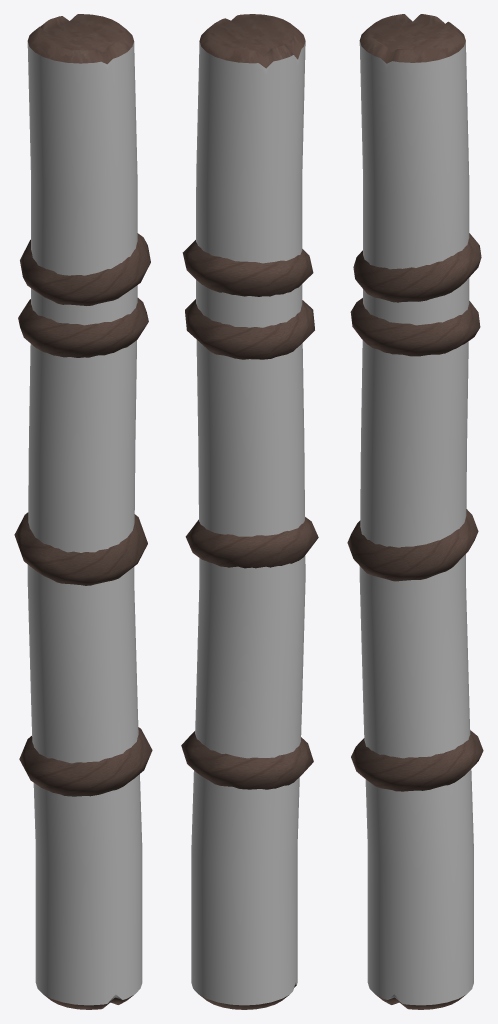
Rendered from Coast Log.fbx.
3 views of the same model, side by side, from view 1: azimuth 30°, elevation 25°; view 2: azimuth 210°, elevation 25°; view 3: azimuth 330°, elevation 25° (orthographic).
Visible parts, largest first — view 1: Log_LOD0; view 2: Log_LOD0; view 3: Log_LOD0.
Part boxes in pixels (x1,y1,x2,y2): Log_LOD0: [14, 14, 152, 1009]; Log_LOD0: [181, 14, 318, 1009]; Log_LOD0: [347, 14, 483, 1009].
Size of what is drawn, in the model's own units: 260 by 1990 by 250.
